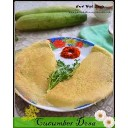dosa: (47, 45, 114, 102), (15, 39, 56, 104)
